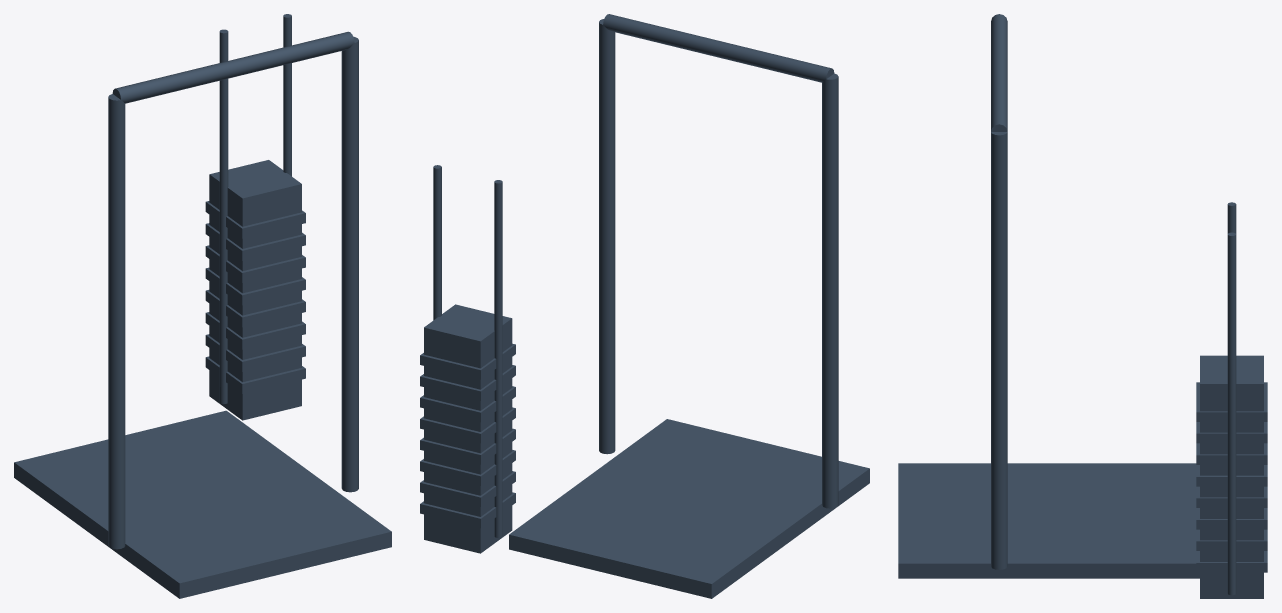
Rendered from triceps_pushdown.glb.
3 views of the same model, side by side, from view 1: azimuth 30°, elevation 25°; view 2: azimuth 150°, elevation 25°; view 3: azimuth 270°, elevation 25° (orthographic). The views are drawn at different scales.
Parts seen in each view (by area): view 1: base, tower (×2), stack, weightPlate (×8), guide (×2), top; view 2: base, tower (×2), stack, weightPlate (×8), guide (×2), top; view 3: base, stack, tower, weightPlate (×8), guide, top.
Boxes of the visible parts, x1=… form: base: x1=14, y1=410, x2=391, y2=598; tower (×2): x1=108, y1=36, x2=358, y2=549; stack: x1=209, y1=160, x2=301, y2=420; weightPlate (×8): x1=205, y1=201, x2=305, y2=393; guide (×2): x1=219, y1=14, x2=291, y2=404; top: x1=112, y1=31, x2=354, y2=103; base: x1=509, y1=419, x2=869, y2=598; tower (×2): x1=599, y1=19, x2=838, y2=508; stack: x1=424, y1=304, x2=512, y2=553; weightPlate (×8): x1=420, y1=343, x2=515, y2=528; guide (×2): x1=433, y1=165, x2=502, y2=537; top: x1=603, y1=14, x2=834, y2=82; base: x1=898, y1=463, x2=1199, y2=578; stack: x1=1200, y1=355, x2=1263, y2=598; tower: x1=991, y1=132, x2=1007, y2=569; weightPlate (×8): x1=1196, y1=382, x2=1267, y2=572; guide: x1=1227, y1=232, x2=1236, y2=595; top: x1=991, y1=14, x2=1007, y2=131.
Size of the model in its own units: 1.42 by 2.16 by 1.56.
